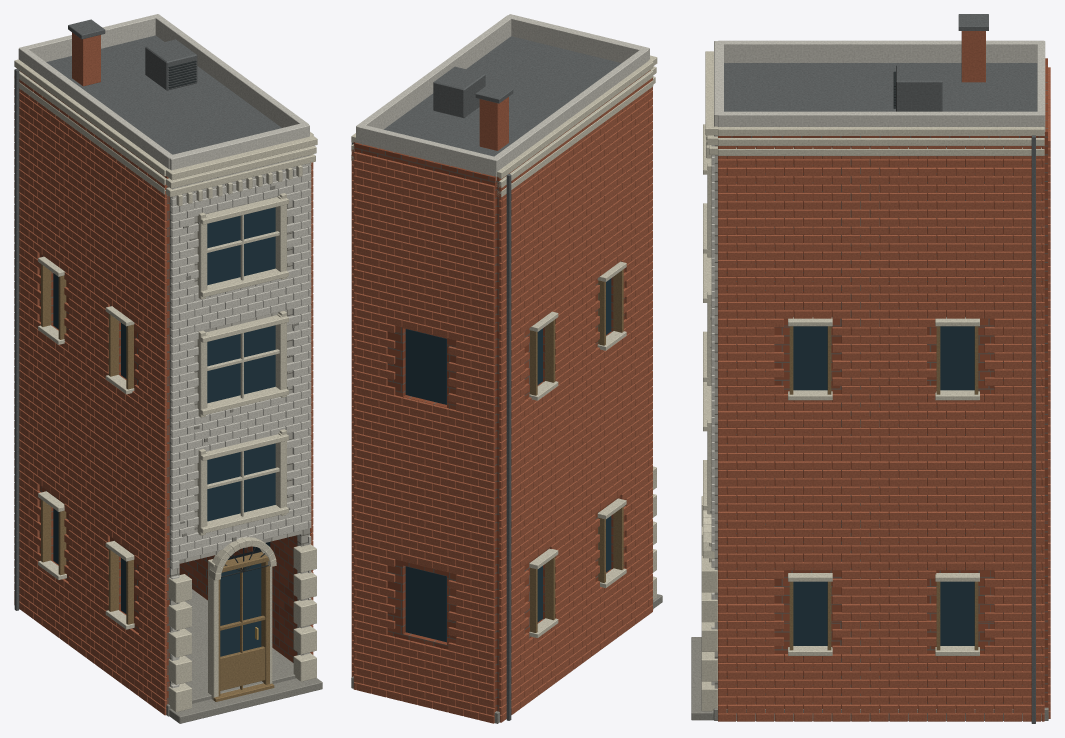
Rendered from OFFC18_lod0.glb.
The picture shows the model from 3 angles, left to right: view 1: azimuth 30°, elevation 25°; view 2: azimuth 150°, elevation 25°; view 3: azimuth 270°, elevation 25°; orthographic projection. The views are drawn at different scales.
Parts seen in each view (by area): view 1: OFFC18_LOD0; view 2: OFFC18_LOD0; view 3: OFFC18_LOD0.
Part boxes in pixels (x1,y1,x2,y2): OFFC18_LOD0: (14,14,322,723); OFFC18_LOD0: (351,14,662,723); OFFC18_LOD0: (691,14,1050,723).
Bounding box in the file's own units: 3.71 × 13.05 × 6.6.
16 materials, 13 textured.
